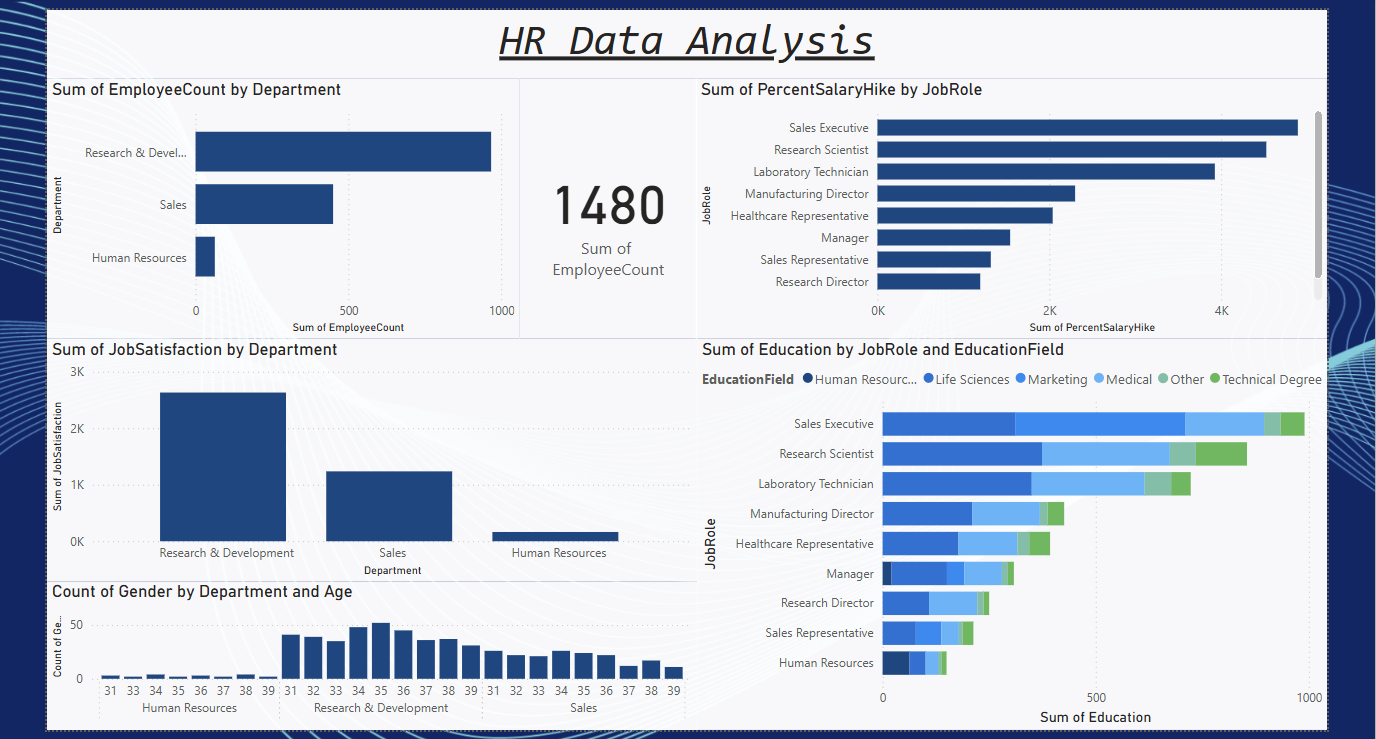

The dashboard page shown, as its layout file describes it:
{"tool":"powerbi","page":{"name":"Page 1","canvas":[1280,720],"ordinal":0},"visuals":[{"type":"barChart","fields":{"Y":["Sum(HR_Analytics.EmployeeCount)"],"Category":["HR_Analytics.Department"]},"box":[0,68.8,472.5,260],"z":0},{"type":"card","fields":{"Values":["Sum(HR_Analytics.EmployeeCount)"]},"box":[472.5,68.8,177.5,260],"z":1000},{"type":"clusteredBarChart","fields":{"Y":["Sum(HR_Analytics.PercentSalaryHike)"],"Category":["HR_Analytics.JobRole"]},"box":[648.8,68.8,631.2,260],"z":2000},{"type":"barChart","fields":{"Category":["HR_Analytics.JobRole"],"Y":["Sum(HR_Analytics.Education)"],"Series":["HR_Analytics.EducationField"]},"box":[650,328.8,630,391.2],"z":3000},{"type":"clusteredColumnChart","fields":{"Y":["Sum(HR_Analytics.JobSatisfaction)"],"Category":["HR_Analytics.Department"]},"box":[0,328.8,650,242.5],"z":4000},{"type":"lineStackedColumnComboChart","fields":{"Y":["CountNonNull(HR_Analytics.Gender)"],"Category":["HR_Analytics.Department","HR_Analytics.Age"]},"box":[0,571.2,650,148.8],"z":5000},{"type":"textbox","box":[0,0,1280,68.8],"z":6000}]}

Visuals, with their boxes on the page's 1280x720 design canvas (x1, y1, x2, y2). These are canvas units, not pixel positions in the 1376x739 screenshot, which may show the page scaled, cropped or inside an application window:
barChart - Sum(HR_Analytics.EmployeeCount) x HR_Analytics.Department: (x1=0, y1=69, x2=472, y2=329)
card - Sum(HR_Analytics.EmployeeCount): (x1=472, y1=69, x2=650, y2=329)
clusteredBarChart - Sum(HR_Analytics.PercentSalaryHike) x HR_Analytics.JobRole: (x1=649, y1=69, x2=1280, y2=329)
barChart - HR_Analytics.JobRole x Sum(HR_Analytics.Education): (x1=650, y1=329, x2=1280, y2=720)
clusteredColumnChart - Sum(HR_Analytics.JobSatisfaction) x HR_Analytics.Department: (x1=0, y1=329, x2=650, y2=571)
lineStackedColumnComboChart - CountNonNull(HR_Analytics.Gender) x HR_Analytics.Department: (x1=0, y1=571, x2=650, y2=720)
textbox: (x1=0, y1=0, x2=1280, y2=69)
